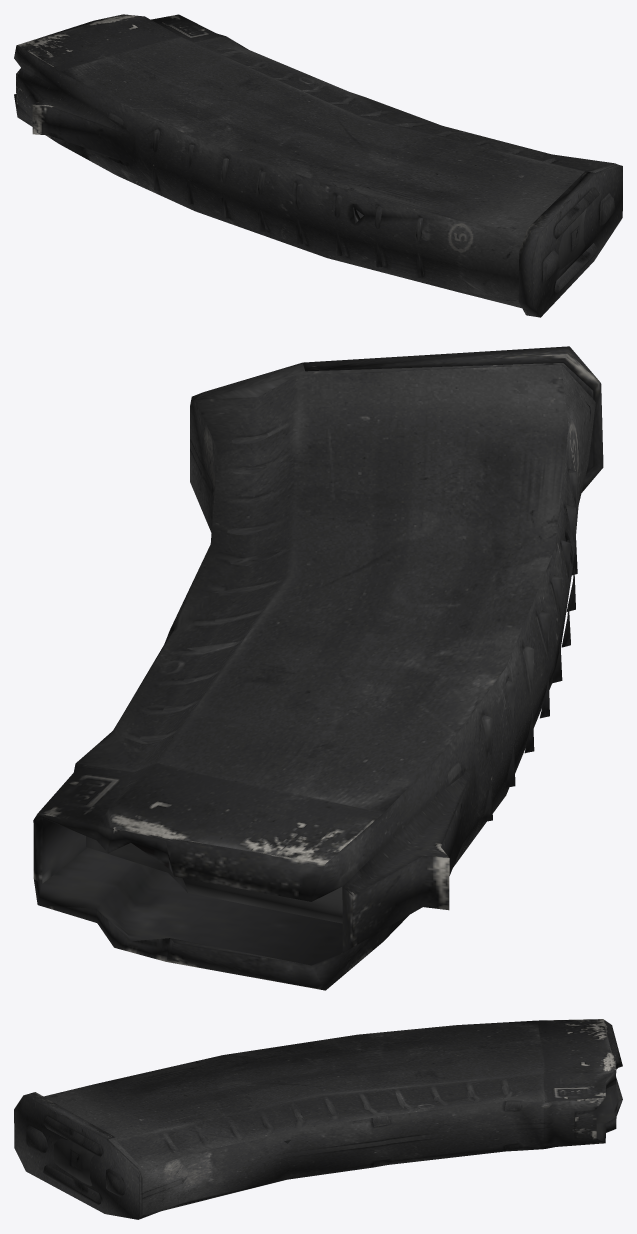
File: Mag545.fbx
3 views of the same model, one above another, from view 1: azimuth 30°, elevation 25°; view 2: azimuth 150°, elevation 25°; view 3: azimuth 270°, elevation 25° (orthographic). The views are drawn at different scales.
Parts seen in each view (by area): view 1: reducedMag; view 2: reducedMag; view 3: reducedMag.
Boxes of the visible parts, x1=… form: reducedMag: x1=14, y1=14, x2=622, y2=317; reducedMag: x1=33, y1=346, x2=603, y2=990; reducedMag: x1=14, y1=1019, x2=622, y2=1219.
Size of the model in its own units: 0.0705 by 0.016 by 0.115.
